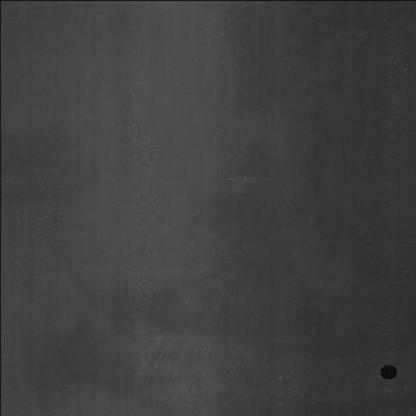punching_hole: (376, 359, 398, 385)
